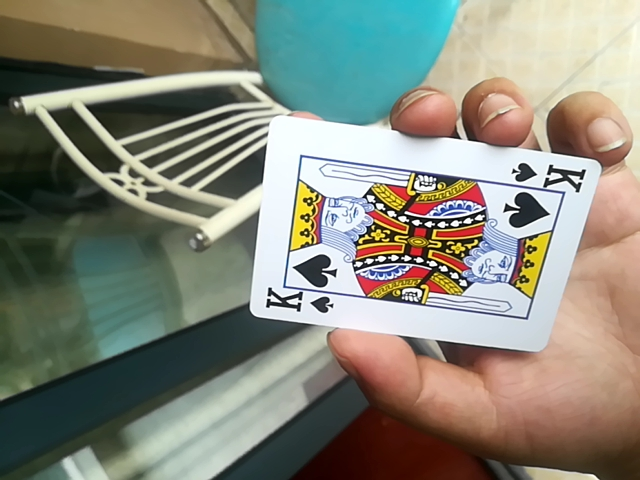ht k: (238, 120, 597, 354)
